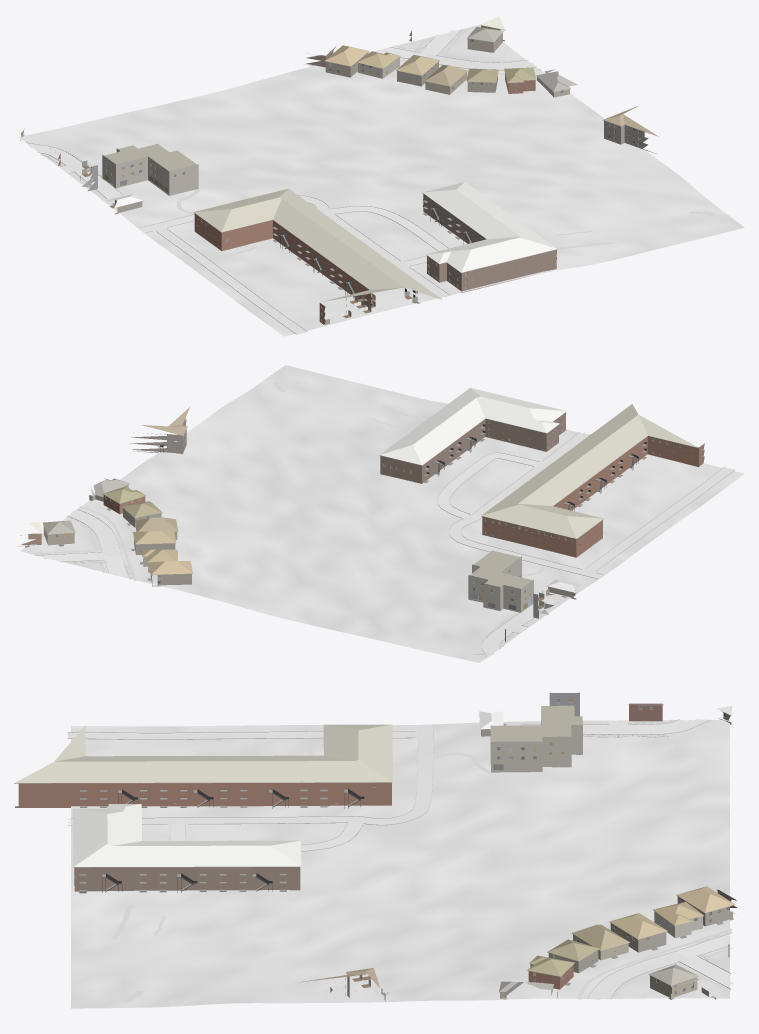
The picture shows the model from 3 angles, top to bottom: view 1: azimuth 30°, elevation 25°; view 2: azimuth 150°, elevation 25°; view 3: azimuth 270°, elevation 25°; orthographic projection. The views are drawn at different scales.
Parts seen in each view (by area): view 1: ground, roof, wall, concrete, wall_com, detail, curb, roof_flat, walk, room; view 2: ground, roof, wall, concrete, detail, wall_com, curb, walk, roof_flat; view 3: ground, roof, wall, concrete, detail, wall_com, curb, walk, roof_flat, wall_stucco.
Part boxes in pixels (x1=…): ground: x1=19, y1=25, x2=744, y2=336; roof: x1=14, y1=16, x2=658, y2=302; wall: x1=20, y1=25, x2=656, y2=324; concrete: x1=27, y1=30, x2=535, y2=334; wall_com: x1=87, y1=148, x2=198, y2=195; detail: x1=21, y1=25, x2=645, y2=322; curb: x1=26, y1=28, x2=536, y2=334; roof_flat: x1=104, y1=144, x2=196, y2=171; walk: x1=40, y1=28, x2=714, y2=256; room: x1=82, y1=63, x2=491, y2=324; ground: x1=20, y1=365, x2=744, y2=662; roof: x1=28, y1=387, x2=698, y2=654; wall: x1=18, y1=412, x2=704, y2=641; concrete: x1=42, y1=432, x2=734, y2=656; detail: x1=20, y1=411, x2=702, y2=636; wall_com: x1=468, y1=556, x2=538, y2=618; curb: x1=35, y1=432, x2=734, y2=656; walk: x1=33, y1=382, x2=611, y2=647; roof_flat: x1=470, y1=550, x2=532, y2=588; ground: x1=71, y1=719, x2=729, y2=1008; roof: x1=15, y1=706, x2=734, y2=996; wall: x1=15, y1=703, x2=737, y2=999; concrete: x1=67, y1=719, x2=733, y2=999; detail: x1=14, y1=698, x2=735, y2=1000; wall_com: x1=490, y1=692, x2=582, y2=772; curb: x1=67, y1=719, x2=732, y2=998; walk: x1=111, y1=719, x2=733, y2=1002; roof_flat: x1=490, y1=705, x2=582, y2=741; wall_stucco: x1=654, y1=911, x2=702, y2=937.
Size of the model in its own units: 267 by 17.54 by 277.
